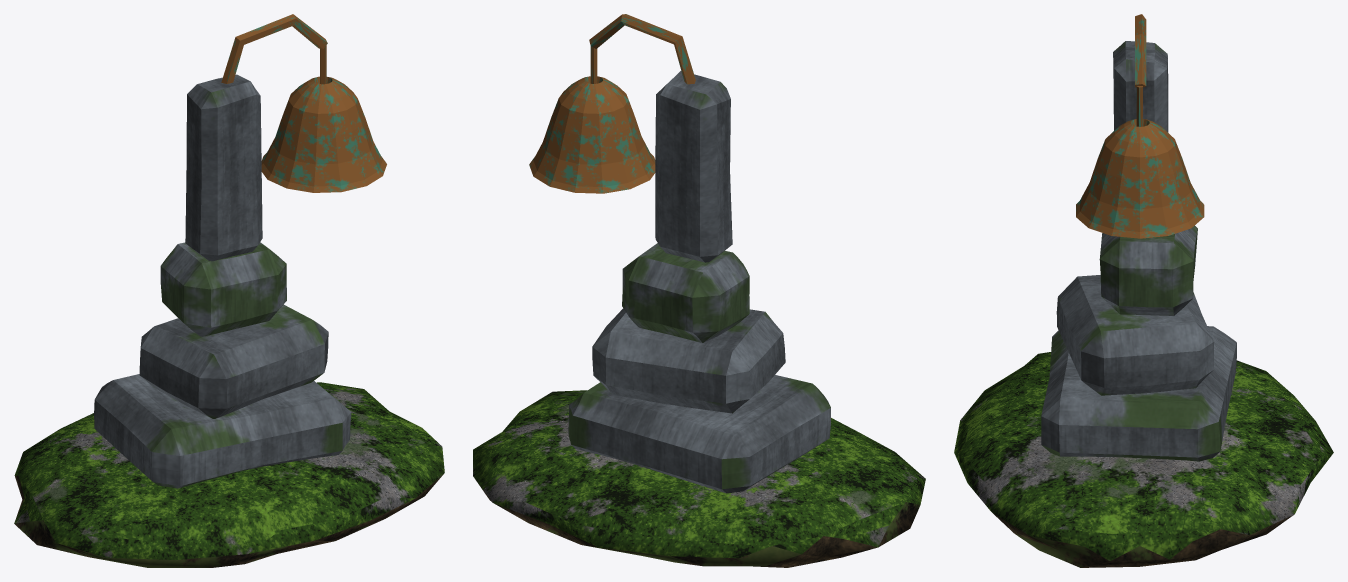
File: Bell_Grave_C.glb
The picture shows the model from 3 angles, left to right: view 1: azimuth 30°, elevation 25°; view 2: azimuth 150°, elevation 25°; view 3: azimuth 270°, elevation 25°; orthographic projection. The views are drawn at different scales.
Parts seen in each view (by area): view 1: Bell_Grave_C__Stone, Bell_Grave_C__Mound, Bell_Grave_C__Bronze; view 2: Bell_Grave_C__Stone, Bell_Grave_C__Mound, Bell_Grave_C__Bronze; view 3: Bell_Grave_C__Mound, Bell_Grave_C__Stone, Bell_Grave_C__Bronze.
Boxes of the visible parts, x1,y1,x2,y2 form: Bell_Grave_C__Stone: (94, 74, 351, 488); Bell_Grave_C__Mound: (14, 382, 444, 567); Bell_Grave_C__Bronze: (221, 14, 386, 192); Bell_Grave_C__Stone: (568, 71, 830, 493); Bell_Grave_C__Mound: (473, 390, 925, 567); Bell_Grave_C__Bronze: (529, 14, 695, 193); Bell_Grave_C__Mound: (954, 352, 1333, 567); Bell_Grave_C__Stone: (1041, 41, 1236, 461); Bell_Grave_C__Bronze: (1076, 14, 1204, 238).
Size of the model in its own units: 5.17 by 6.06 by 4.22.
Materials: 3 (3 with a texture image).
